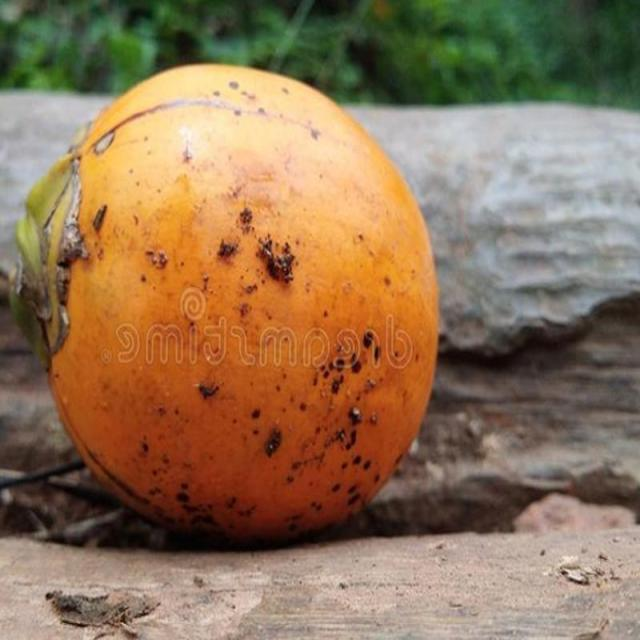good: (10, 63, 442, 553)
